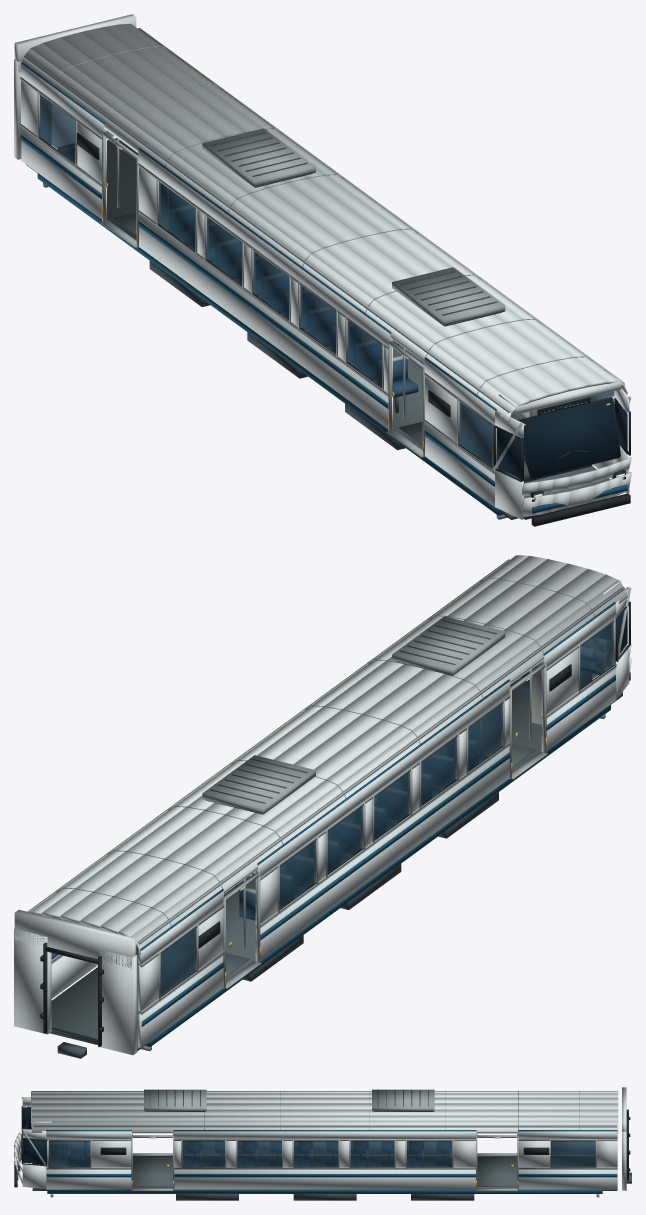
3 views of the same model, one above another, from view 1: azimuth 30°, elevation 25°; view 2: azimuth 150°, elevation 25°; view 3: azimuth 270°, elevation 25° (orthographic). The views are drawn at different scales.
Visible parts, largest first — view 1: VIS_ROOF_CROWN, VIS_LOWER_BODY_PANELS, VIS_SIDE_GLAZING, VIS_ROOFTOP_HVAC, VIS_UPPER_BODY_PANELS, VIS_OPAQUE_WINDOW_PIER, VIS_CAB_WINDSCREEN, VIS_INTERIOR_WALKING_FLOOR, VIS_SEAT_BACKREST, VIS_CONTINUOUS_ROOF_GUTTER, VIS_CAB_FRONT_COWL, VIS_LOWER_UNDERBODY_SKIRT (+20 smaller); view 2: VIS_ROOF_CROWN, VIS_LOWER_BODY_PANELS, VIS_SIDE_GLAZING, VIS_ROOFTOP_HVAC, VIS_INTERIOR_WALKING_FLOOR, VIS_GANGWAY_END_PIER, VIS_OPAQUE_WINDOW_PIER, VIS_UPPER_BODY_PANELS, VIS_SEAT_BACKREST, VIS_CONTINUOUS_ROOF_GUTTER, VIS_GANGWAY_HEADER, VIS_LOWER_UNDERBODY_SKIRT (+14 smaller); view 3: VIS_ROOF_CROWN, VIS_LOWER_BODY_PANELS, VIS_SIDE_GLAZING, VIS_OPAQUE_WINDOW_PIER, VIS_UPPER_BODY_PANELS, VIS_ROOFTOP_HVAC, VIS_LOWER_UNDERBODY_SKIRT, VIS_VESTIBULE_ANTISLIP, VIS_INTERIOR_WALKING_FLOOR, VIS_BLUE_STRIPE, VIS_SEAT_CUSHIONS, VIS_CONTINUOUS_ROOF_GUTTER (+23 smaller).
Boxes of the visible parts, <box> form: VIS_ROOF_CROWN: <box>22,23,627,423</box>; VIS_LOWER_BODY_PANELS: <box>21,128,614,507</box>; VIS_SIDE_GLAZING: <box>40,95,611,467</box>; VIS_ROOFTOP_HVAC: <box>202,128,505,326</box>; VIS_UPPER_BODY_PANELS: <box>21,64,614,423</box>; VIS_OPAQUE_WINDOW_PIER: <box>21,81,615,468</box>; VIS_CAB_WINDSCREEN: <box>520,399,620,478</box>; VIS_INTERIOR_WALKING_FLOOR: <box>25,138,610,519</box>; VIS_SEAT_BACKREST: <box>169,208,407,384</box>; VIS_CONTINUOUS_ROOF_GUTTER: <box>24,28,624,412</box>; VIS_CAB_FRONT_COWL: <box>522,457,631,516</box>; VIS_LOWER_UNDERBODY_SKIRT: <box>37,173,610,515</box>; VIS_ROOF_CROWN: <box>30,555,627,955</box>; VIS_LOWER_BODY_PANELS: <box>51,668,615,1047</box>; VIS_SIDE_GLAZING: <box>51,623,613,994</box>; VIS_ROOFTOP_HVAC: <box>202,616,505,814</box>; VIS_INTERIOR_WALKING_FLOOR: <box>51,679,622,1050</box>; VIS_GANGWAY_END_PIER: <box>14,928,137,1055</box>; VIS_OPAQUE_WINDOW_PIER: <box>138,648,615,1011</box>; VIS_UPPER_BODY_PANELS: <box>138,604,615,963</box>; VIS_SEAT_BACKREST: <box>239,741,477,918</box>; VIS_CONTINUOUS_ROOF_GUTTER: <box>27,559,624,944</box>; VIS_GANGWAY_HEADER: <box>14,910,136,968</box>; VIS_LOWER_UNDERBODY_SKIRT: <box>52,704,610,1047</box>; VIS_ROOF_CROWN: <box>31,1091,618,1133</box>; VIS_LOWER_BODY_PANELS: <box>46,1142,617,1189</box>; VIS_SIDE_GLAZING: <box>49,1141,595,1166</box>; VIS_OPAQUE_WINDOW_PIER: <box>46,1141,617,1167</box>; VIS_UPPER_BODY_PANELS: <box>46,1131,617,1138</box>; VIS_ROOFTOP_HVAC: <box>144,1089,434,1111</box>; VIS_LOWER_UNDERBODY_SKIRT: <box>47,1189,602,1193</box>; VIS_VESTIBULE_ANTISLIP: <box>132,1157,517,1186</box>; VIS_INTERIOR_WALKING_FLOOR: <box>32,1155,617,1190</box>; VIS_BLUE_STRIPE: <box>46,1174,617,1177</box>; VIS_SEAT_CUSHIONS: <box>187,1142,448,1166</box>; VIS_CONTINUOUS_ROOF_GUTTER: <box>33,1125,616,1127</box>.
Size of the model in its own units: 3.14 by 3.44 by 22.07.
Materials: 13 (13 with a texture image).
